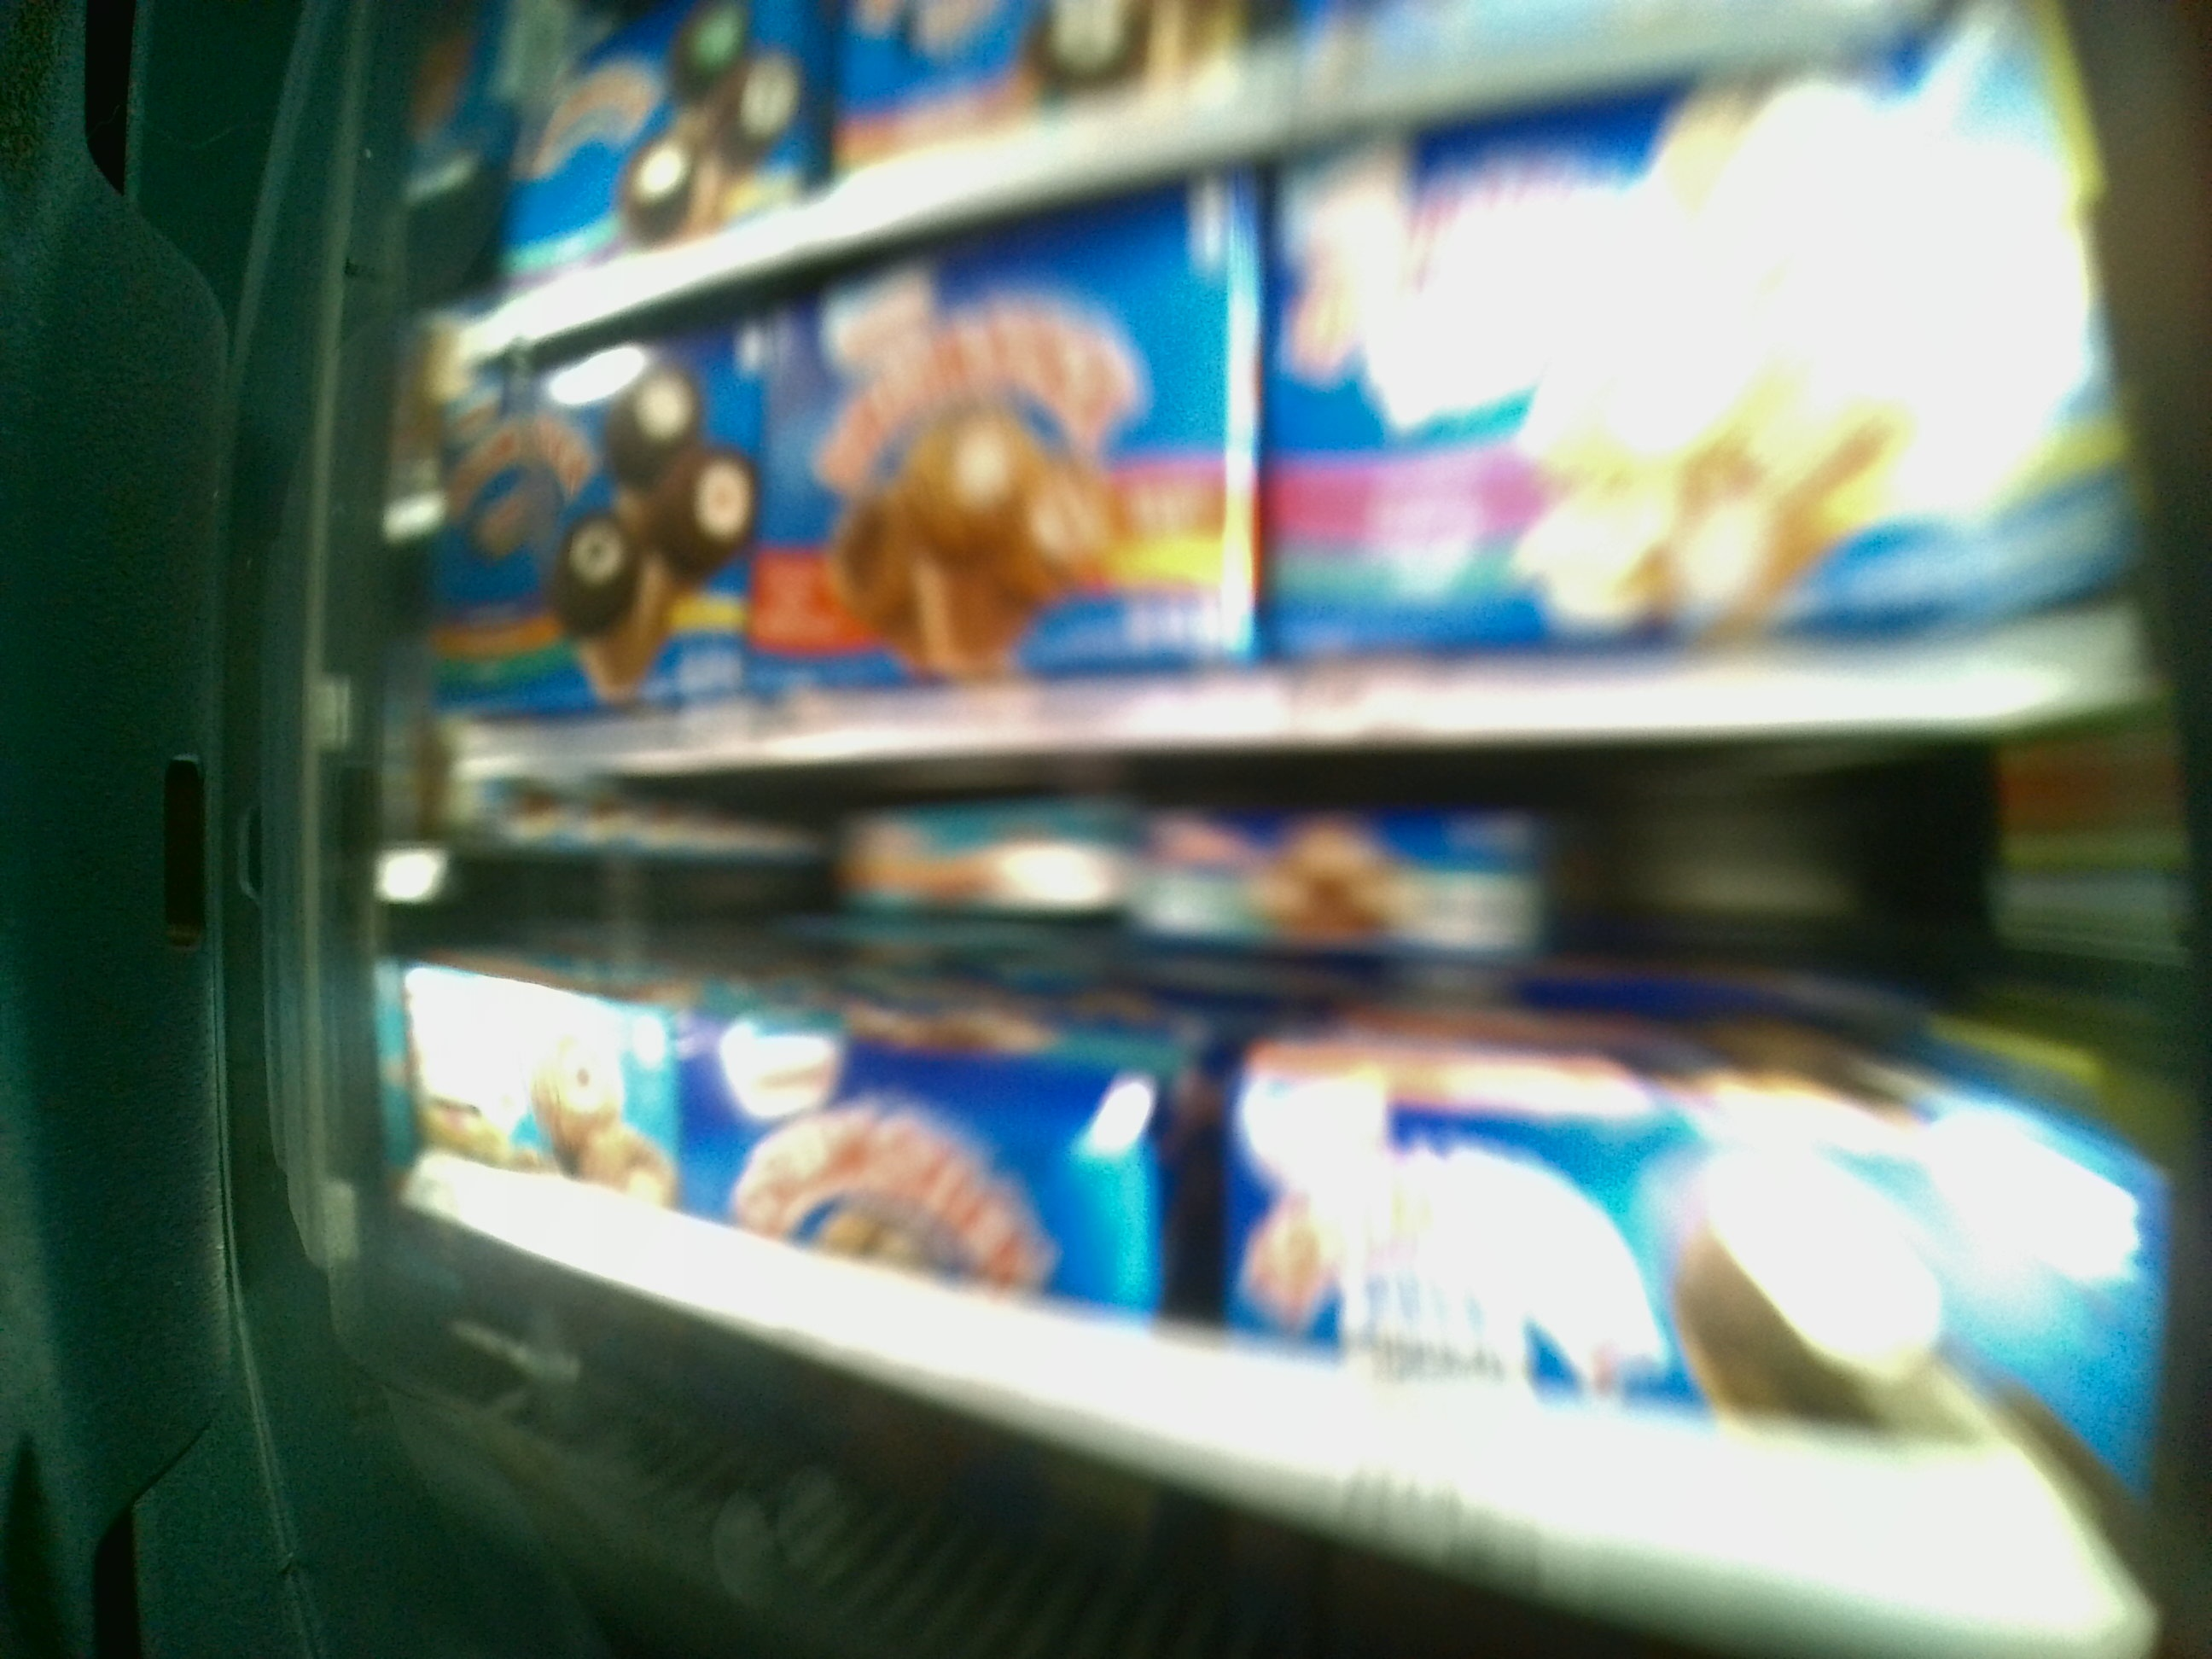shelf: (416, 762, 2203, 1659)
